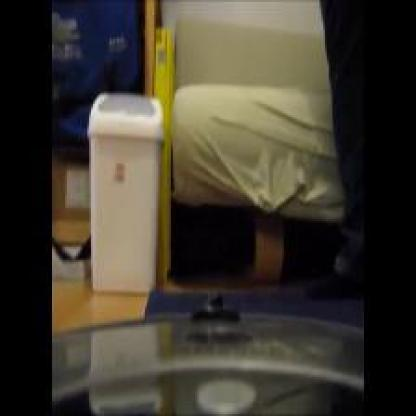other: (146, 18, 202, 278)
